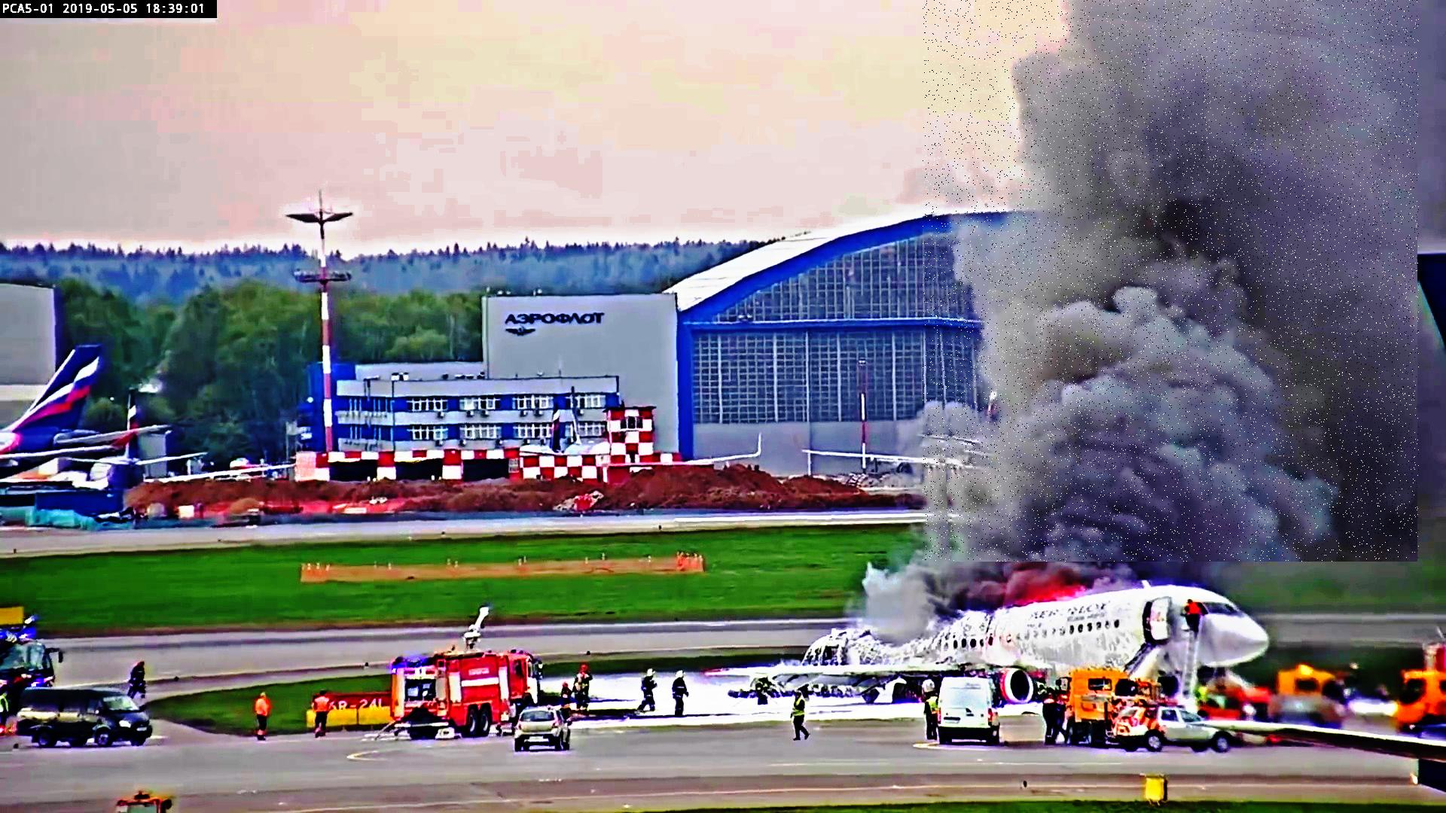smoke: (923, 0, 1419, 562)
